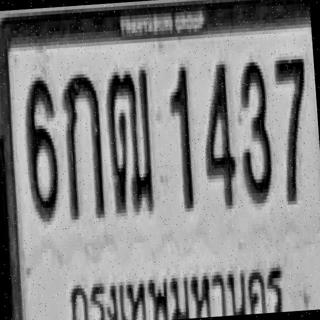A01: (60, 68, 106, 218)
A18: (104, 66, 156, 213)
N01: (166, 62, 196, 211)
N03: (235, 56, 274, 202)
N04: (199, 60, 238, 206)
N06: (22, 73, 61, 219)
N07: (273, 54, 314, 203)
P04: (67, 255, 289, 320)
